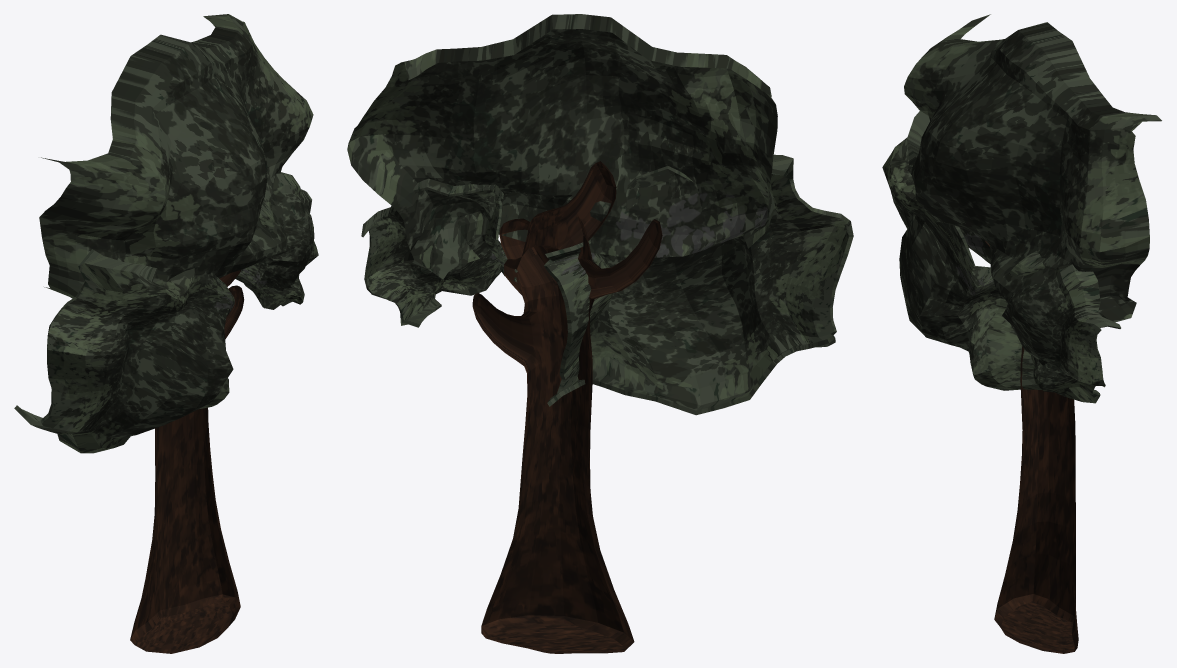
File: arvore m.fbx
3 views of the same model, side by side, from view 1: azimuth 30°, elevation 25°; view 2: azimuth 150°, elevation 25°; view 3: azimuth 270°, elevation 25° (orthographic). The views are drawn at different scales.
Parts seen in each view (by area): view 1: Plane.034, Plane.036, Cube.022, Plane.035; view 2: Plane.034, Plane.036, Cube.022, Plane.035; view 3: Plane.034, Cube.022, Plane.036, Plane.035.
Part boxes in pixels (left/top/right/bottom): Plane.034: left=39, top=14, right=313, bottom=298; Plane.036: left=14, top=249, right=234, bottom=453; Cube.022: left=130, top=270, right=244, bottom=653; Plane.035: left=235, top=172, right=318, bottom=309; Plane.034: left=347, top=14, right=777, bottom=279; Plane.036: left=544, top=154, right=853, bottom=415; Cube.022: left=472, top=161, right=662, bottom=653; Plane.035: left=361, top=178, right=517, bottom=327; Plane.034: left=904, top=14, right=1161, bottom=322; Cube.022: left=985, top=241, right=1078, bottom=653; Plane.036: left=882, top=111, right=1041, bottom=390; Plane.035: left=1002, top=251, right=1120, bottom=403.
Size of the model in its own units: 177 by 268 by 116.
3 materials, 3 textured.
